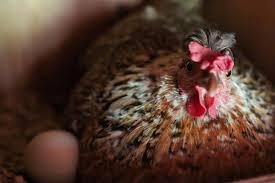egg: (20, 124, 78, 183)
